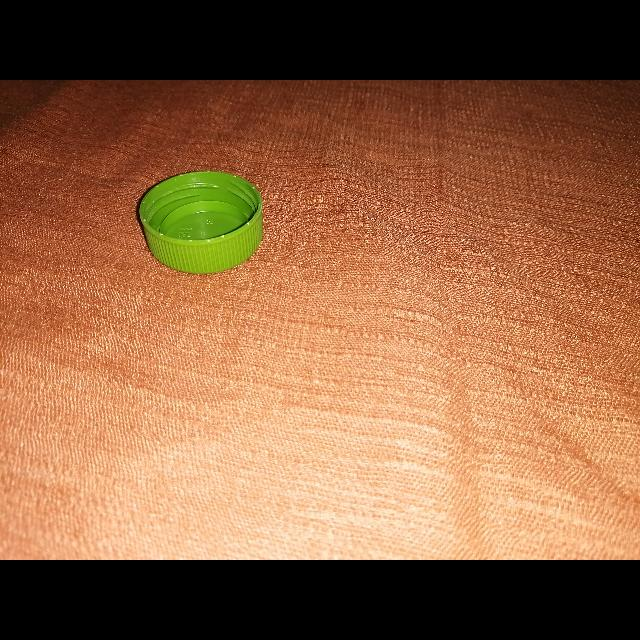plastic_bottle_cap: (138, 170, 264, 274)
